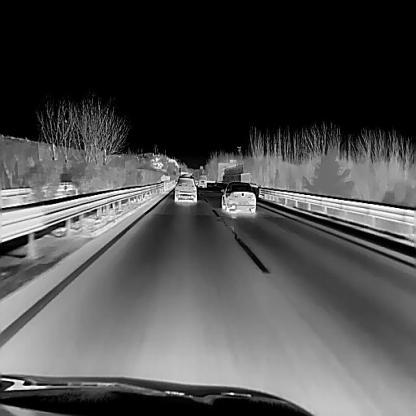car: (220, 180, 256, 215), (174, 175, 196, 202), (197, 173, 207, 187)
